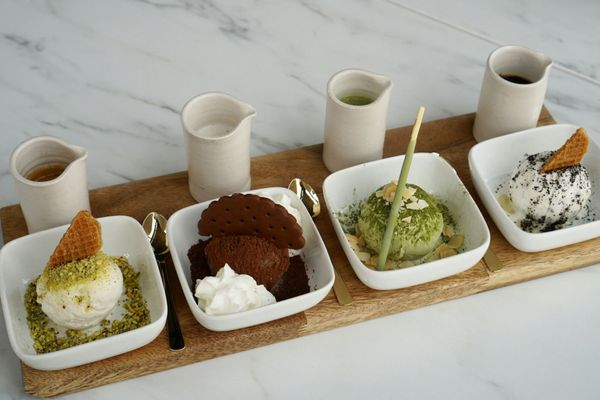curry: (361, 181, 455, 267)
salad: (385, 103, 426, 263), (143, 211, 188, 350)
sushi: (0, 210, 169, 371), (167, 185, 335, 332), (323, 153, 492, 292), (468, 123, 599, 252)
